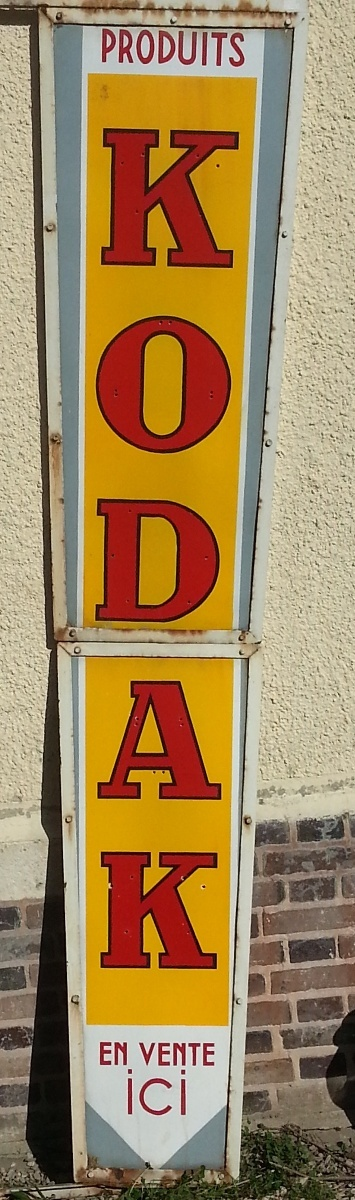text: (97, 129, 112, 972), (113, 129, 128, 972), (129, 129, 144, 972), (145, 129, 160, 972), (161, 129, 176, 972), (177, 129, 192, 972), (193, 129, 208, 972), (209, 129, 224, 972), (225, 129, 240, 972), (93, 129, 96, 972), (129, 1069, 144, 1117), (145, 1069, 160, 1117), (161, 1069, 176, 1117), (113, 28, 128, 68), (129, 28, 144, 68), (145, 28, 160, 68), (161, 28, 176, 68), (177, 28, 192, 68), (193, 28, 208, 68), (209, 28, 224, 68), (225, 28, 240, 68), (177, 1069, 187, 1117), (102, 28, 112, 68), (145, 1042, 160, 1067), (161, 1042, 176, 1067), (177, 1042, 192, 1067), (193, 1042, 208, 1067), (113, 1042, 128, 1066), (100, 1042, 112, 1066), (241, 28, 247, 68), (138, 1042, 144, 1067), (209, 1042, 215, 1067)
